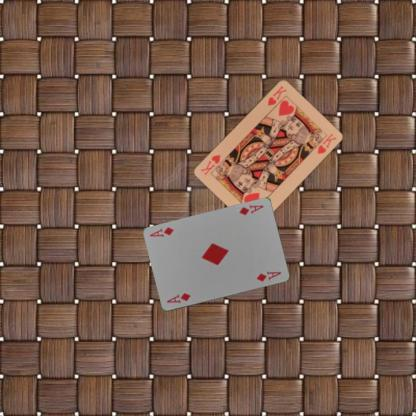Ad: (236, 202, 265, 217), (164, 291, 192, 305)
Kh: (265, 83, 288, 107)
